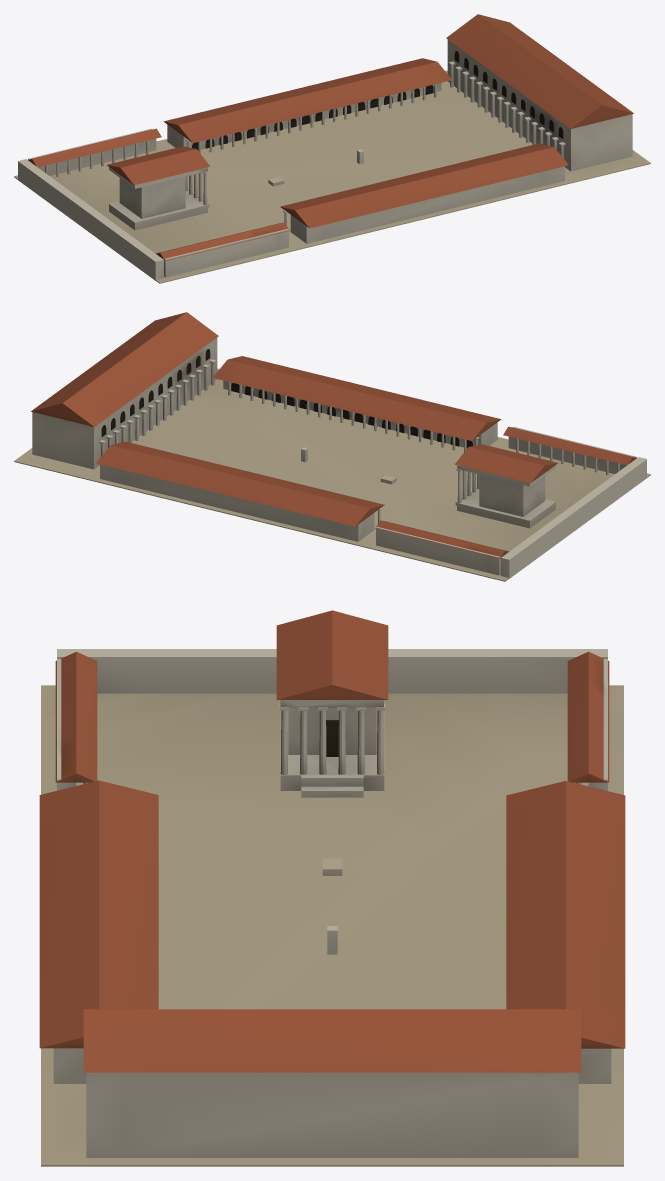
File: forum.glb
The picture shows the model from 3 angles, top to bottom: view 1: azimuth 30°, elevation 25°; view 2: azimuth 150°, elevation 25°; view 3: azimuth 270°, elevation 25°; orthographic projection. The views are drawn at different scales.
Visible parts, largest first — view 1: p0_square, p1_temple, p2_basilica; view 2: p0_square, p1_temple, p2_basilica; view 3: p0_square, p2_basilica, p1_temple.
Boxes of the visible parts, x1,y1,x2,y2 form: p0_square: (14, 58, 650, 283); p1_temple: (18, 128, 289, 280); p2_basilica: (446, 14, 633, 171); p0_square: (14, 356, 650, 581); p1_temple: (375, 426, 646, 578); p2_basilica: (31, 312, 218, 469); p0_square: (39, 685, 625, 1166); p2_basilica: (83, 1009, 581, 1157); p1_temple: (55, 610, 609, 797).
Bounding box in the file's own units: 175 × 20.57 × 90.4.
